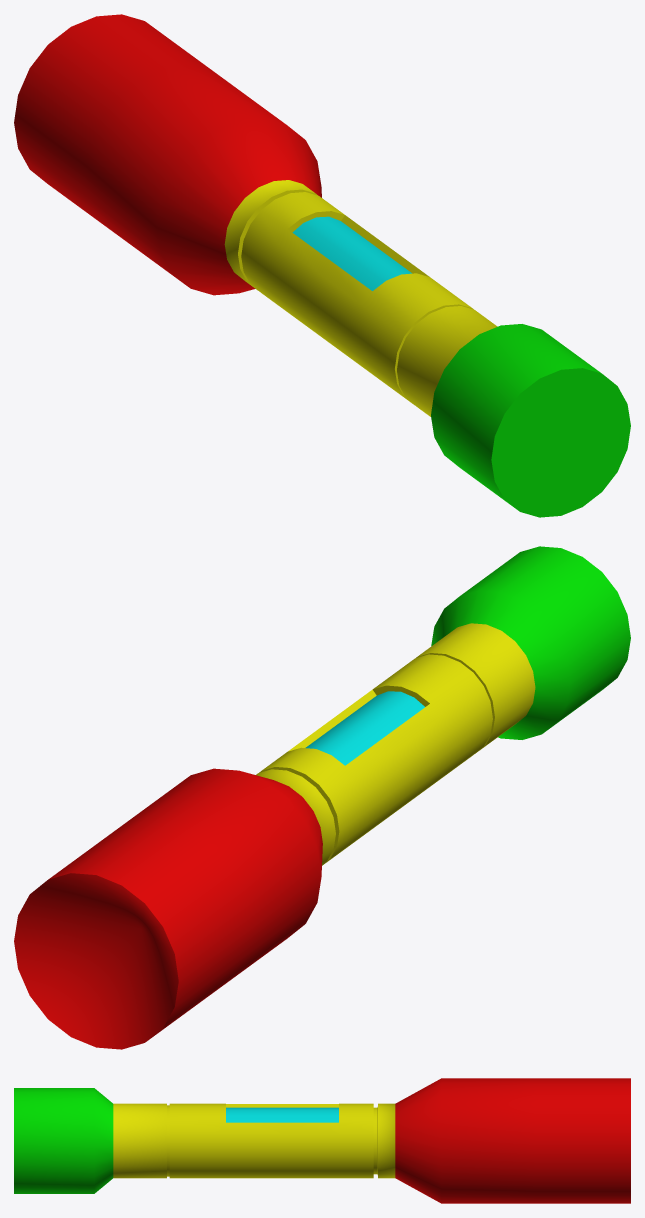
File: flashlight.fbx
The picture shows the model from 3 angles, top to bottom: view 1: azimuth 30°, elevation 25°; view 2: azimuth 150°, elevation 25°; view 3: azimuth 270°, elevation 25°; orthographic projection. The views are drawn at different scales.
Visible parts, largest first — view 1: flashlight1; view 2: flashlight1; view 3: flashlight1.
Part boxes in pixels (x1,y1,x2,y2): flashlight1: (14, 14, 630, 517); flashlight1: (14, 546, 630, 1049); flashlight1: (14, 1078, 630, 1203).
Size of the model in its own units: 1.69 by 1.69 by 8.28.
